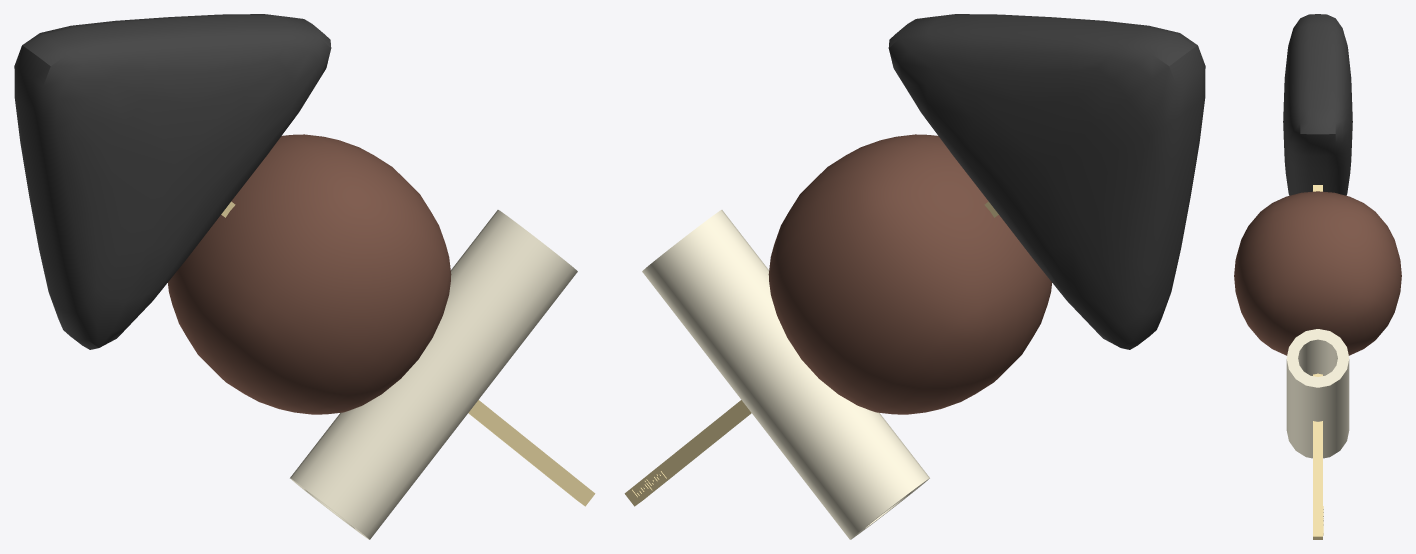
File: oden.fbx
3 renders of one model, left to right at view 1: azimuth 30°, elevation 25°; view 2: azimuth 150°, elevation 25°; view 3: azimuth 270°, elevation 25°, orthographic. The views are drawn at different scales.
Visible parts, largest first — view 1: Cube.428; view 2: Cube.428; view 3: Cube.428.
Boxes of the visible parts, box(x1,y1,x2,y2) form: Cube.428: box(14, 14, 595, 539); Cube.428: box(624, 14, 1205, 539); Cube.428: box(1234, 14, 1401, 539).
Size of the model in its own units: 200 by 200 by 83.37.
1 material, 1 textured.
